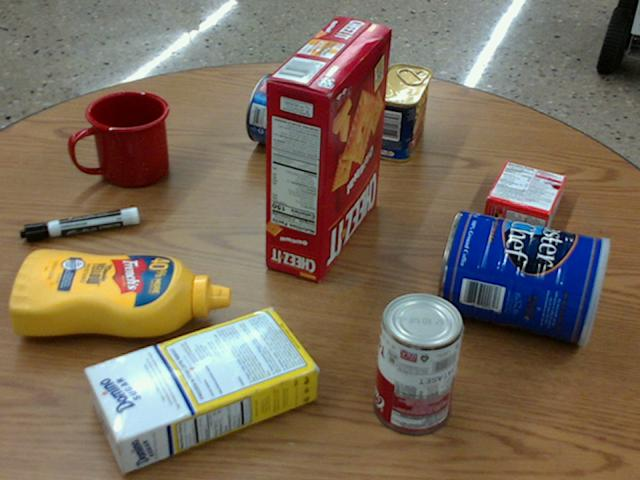cracker_box: (265, 15, 391, 280)
gelatin_box: (483, 159, 565, 231)
large_marker: (21, 206, 139, 242)
master_chef_can: (439, 207, 611, 343)
mug: (71, 92, 169, 188)
mustard_bottle: (10, 248, 230, 338)
potted_meat_can: (373, 63, 431, 161)
sugar_box: (81, 306, 316, 471)
tomato_soup_can: (376, 290, 464, 432)
tuna_fish_can: (245, 73, 302, 147)
